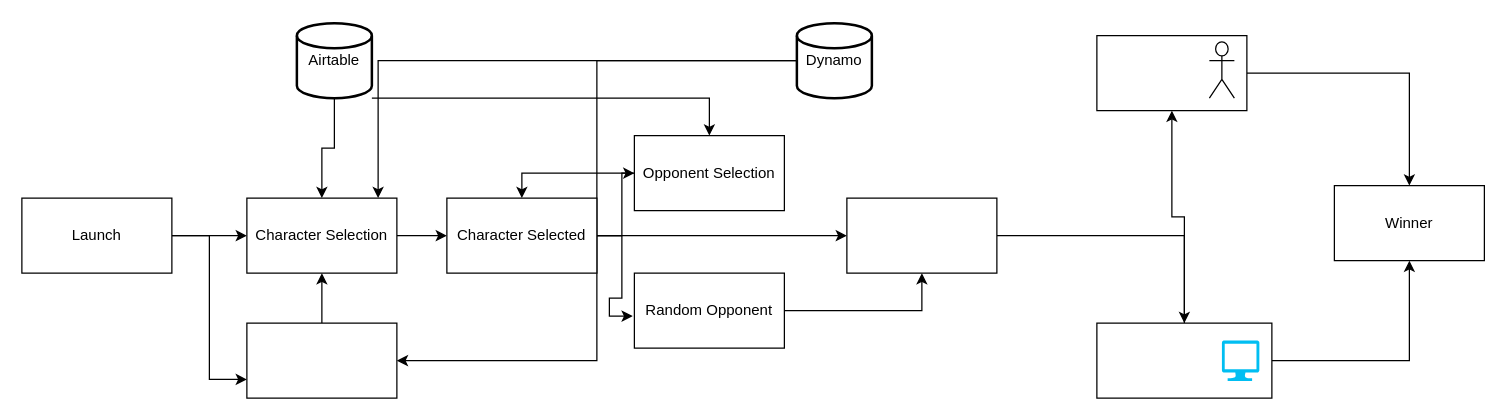
This 1506x420 diagram has some shape labels left out. The box of each missing label's shape, as (x1, y1, x2, y2) in pixels:
Ask for players name: (246, 322, 397, 398)
Computer: (1096, 322, 1272, 398)
Fight Start: (846, 197, 997, 273)
Player: (1096, 34, 1247, 111)
